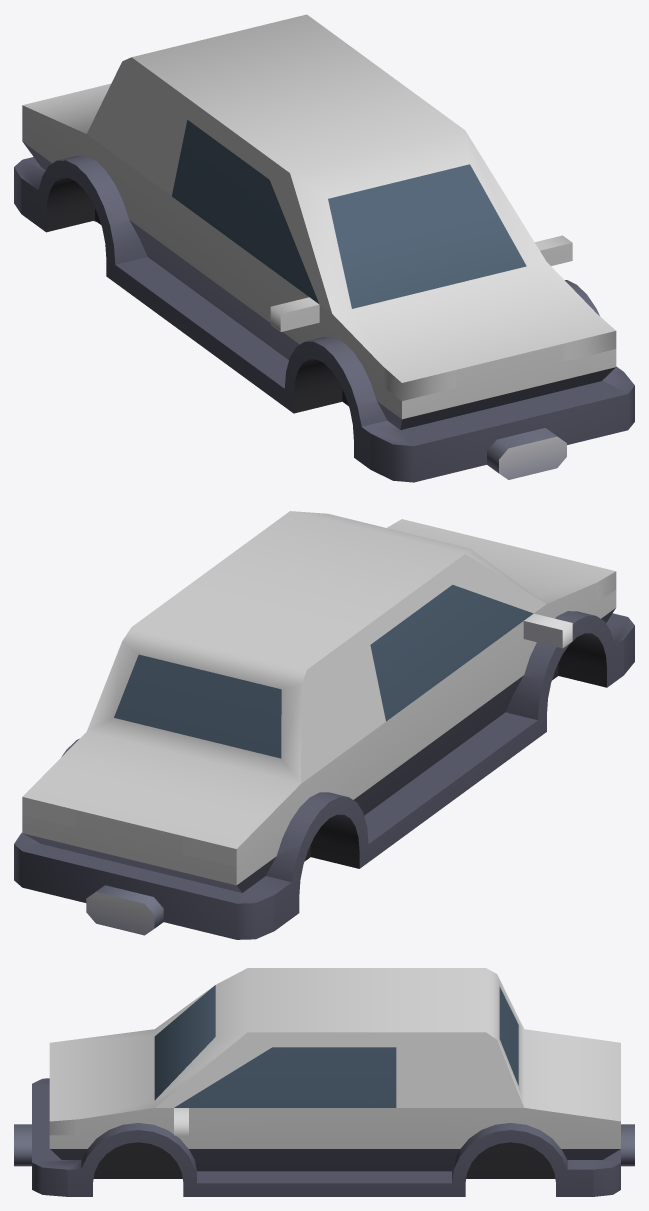
File: sedan.glb
3 renders of one model, top to bottom at view 1: azimuth 30°, elevation 25°; view 2: azimuth 150°, elevation 25°; view 3: azimuth 270°, elevation 25°, orthographic. The views are drawn at different scales.
Visible parts, largest first — view 1: paint, trim, glass, light_head; view 2: paint, trim, glass, light_tail; view 3: paint, trim, glass, light_head.
Part boxes in pixels (<box>): paint: <box>22,14,616,419</box>; trim: <box>14,142,634,482</box>; glass: <box>172,120,526,308</box>; light_head: <box>382,331,616,400</box>; paint: <box>22,511,616,885</box>; trim: <box>14,608,634,939</box>; glass: <box>114,584,533,758</box>; light_tail: <box>22,797,236,867</box>; paint: <box>49,968,620,1148</box>; trim: <box>14,1078,634,1196</box>; glass: <box>154,985,518,1107</box>; light_head: <box>49,1119,79,1135</box>.
Bounding box in the file's own units: 1.84 × 1.26 × 4.5.
